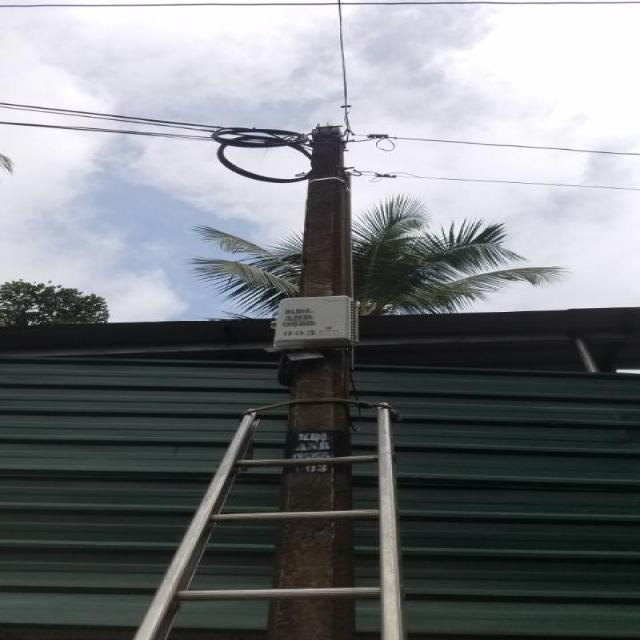light_pole: (256, 121, 391, 640)
